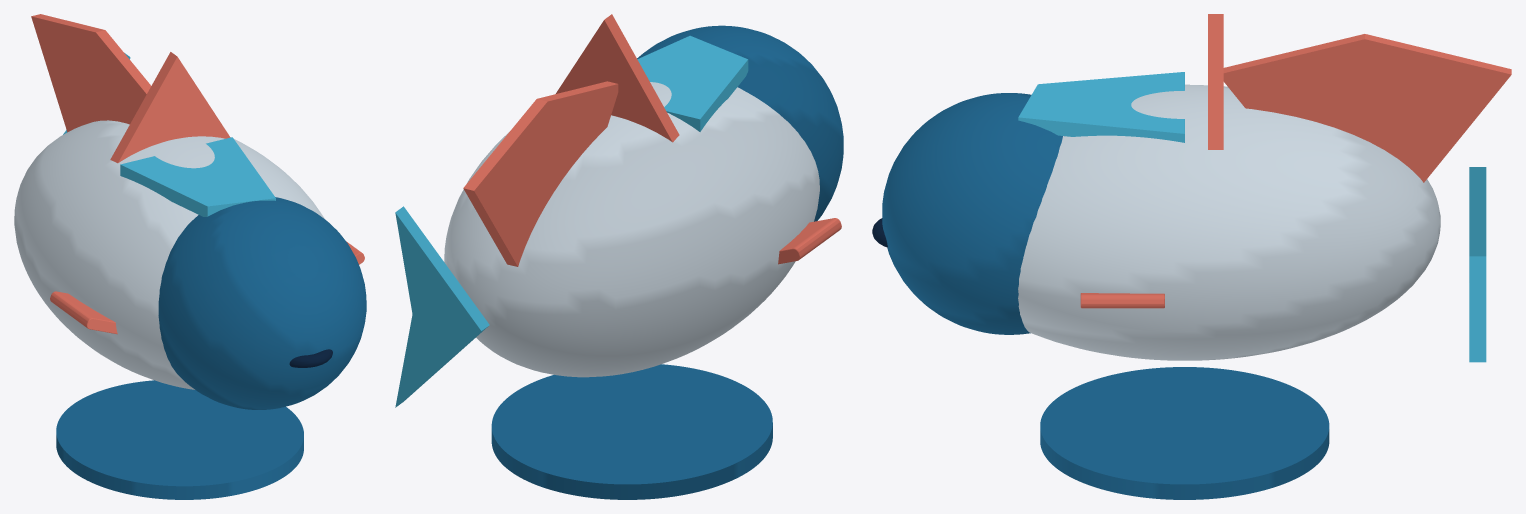
Rendered from 0302_古生代动物图鉴_瓣齿鲨.glb.
3 views of the same model, side by side, from view 1: azimuth 30°, elevation 25°; view 2: azimuth 150°, elevation 25°; view 3: azimuth 270°, elevation 25° (orthographic). The views are drawn at different scales.
Parts seen in each view (by area): view 1: card_0302; view 2: card_0302; view 3: card_0302.
Boxes of the visible parts, x1,y1,x2,y2 form: card_0302: (14, 14, 366, 499); card_0302: (395, 14, 843, 499); card_0302: (872, 14, 1511, 499).
Size of the model in its own units: 0.7648 by 1 by 1.34.
